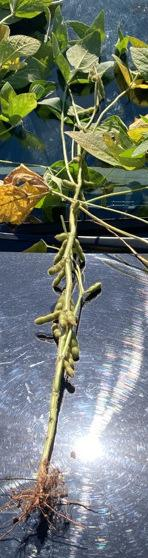soja: (68, 328, 89, 361), (46, 241, 72, 263), (35, 305, 58, 328), (83, 283, 106, 303), (74, 105, 100, 120), (74, 237, 89, 262), (47, 259, 70, 275), (96, 76, 111, 100), (71, 198, 88, 218), (69, 309, 84, 329), (49, 273, 69, 288), (51, 293, 68, 310), (51, 227, 71, 241), (60, 362, 74, 380), (61, 175, 75, 190), (65, 356, 79, 370), (51, 324, 63, 340), (60, 308, 67, 325), (88, 72, 97, 84)
